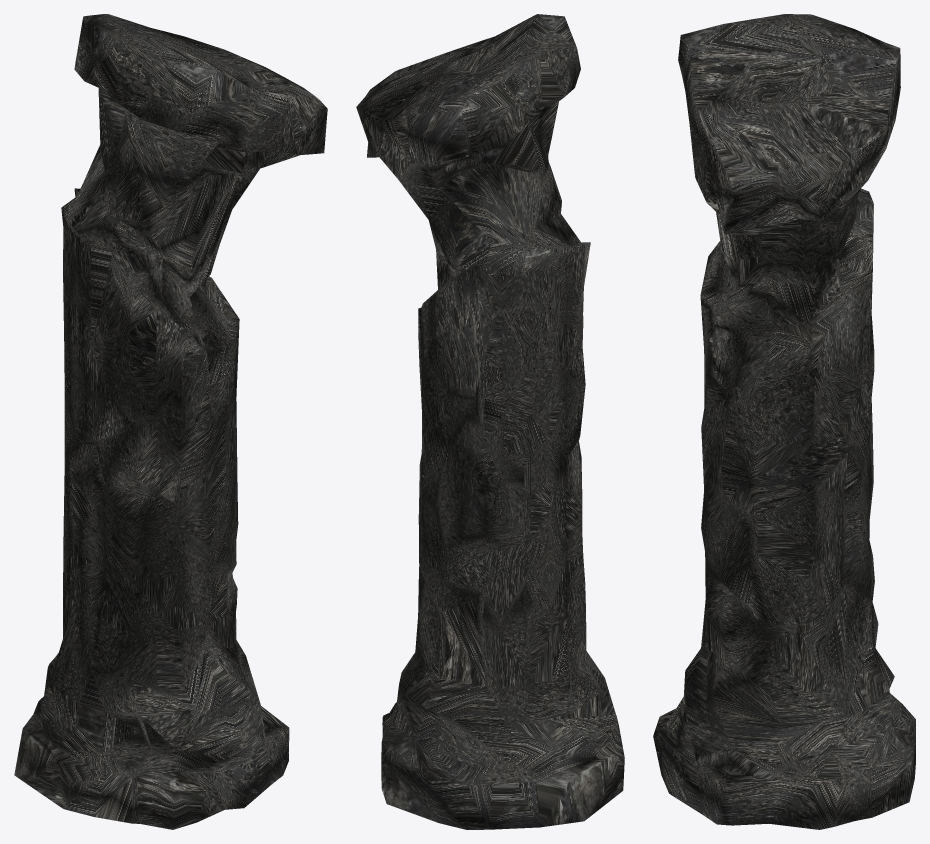
Rendered from ruin-column.glb.
The picture shows the model from 3 angles, left to right: view 1: azimuth 30°, elevation 25°; view 2: azimuth 150°, elevation 25°; view 3: azimuth 270°, elevation 25°; orthographic projection.
Size of the model in its own units: 0.6986 by 1.9 by 0.6071.
Materials: 1 (1 with a texture image).
